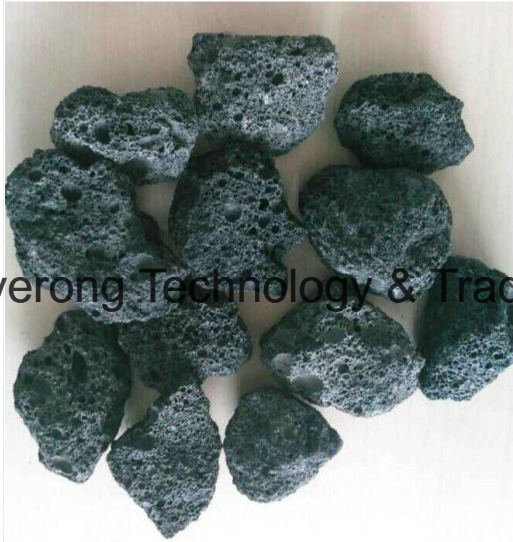volcanic_rock: (9, 142, 174, 328), (293, 159, 460, 310), (13, 307, 132, 491), (258, 293, 430, 416), (188, 25, 341, 159), (103, 371, 218, 542), (167, 137, 287, 297), (406, 250, 513, 413), (335, 62, 483, 175), (223, 388, 352, 512), (51, 77, 204, 176), (123, 295, 253, 395)
